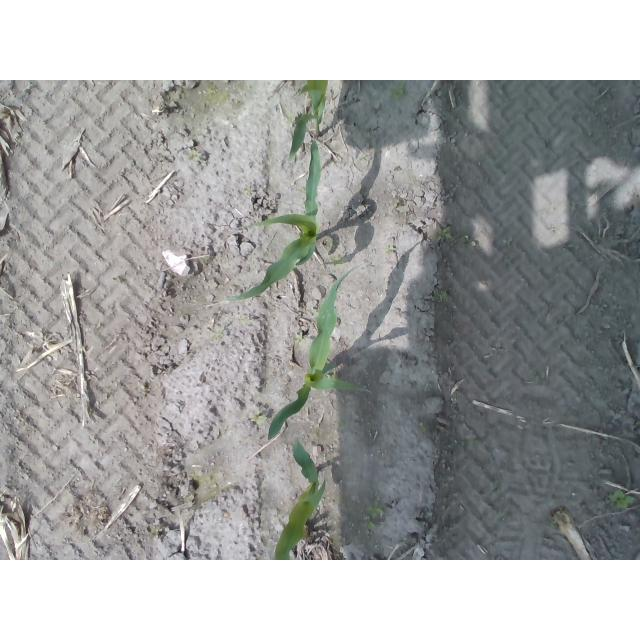Maize: (267, 263, 364, 433), (226, 137, 322, 302), (268, 437, 329, 560), (289, 80, 327, 160)
Weeds: (607, 488, 638, 510), (366, 506, 385, 531), (437, 226, 454, 242), (431, 289, 448, 303), (391, 84, 405, 100), (251, 415, 265, 425)
